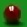brown: (0, 0, 27, 27)
